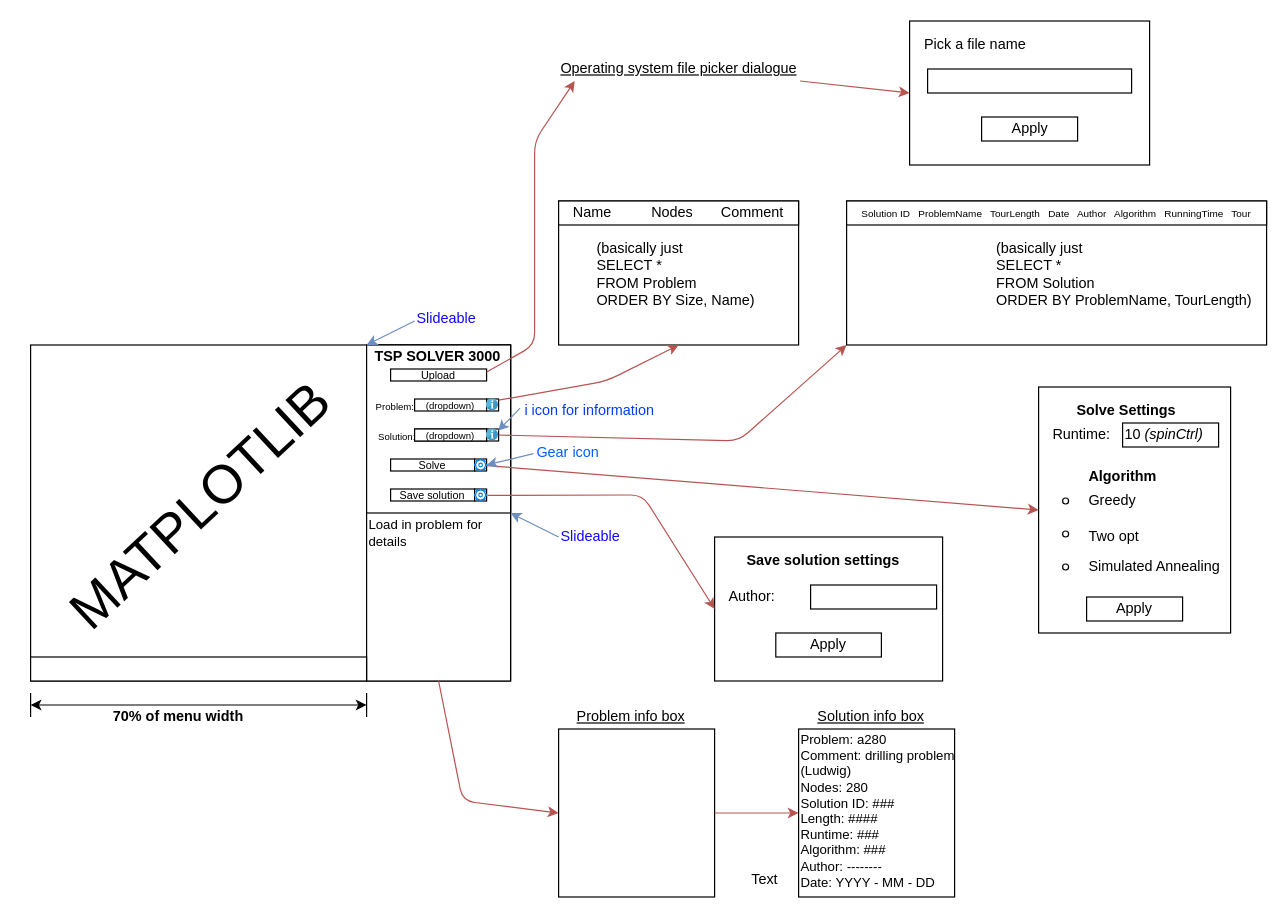
Image size: 1288x918. Some labels were removed from this diagram. Each missing label, with the centre of its shape:
"computer name" goes at point 873,596.
"Navigation bar" goes at point 198,668.
"PROBLEM : a280 COMMENT: drilling problem (Ludwig) NODES: 280" goes at point 636,812.
